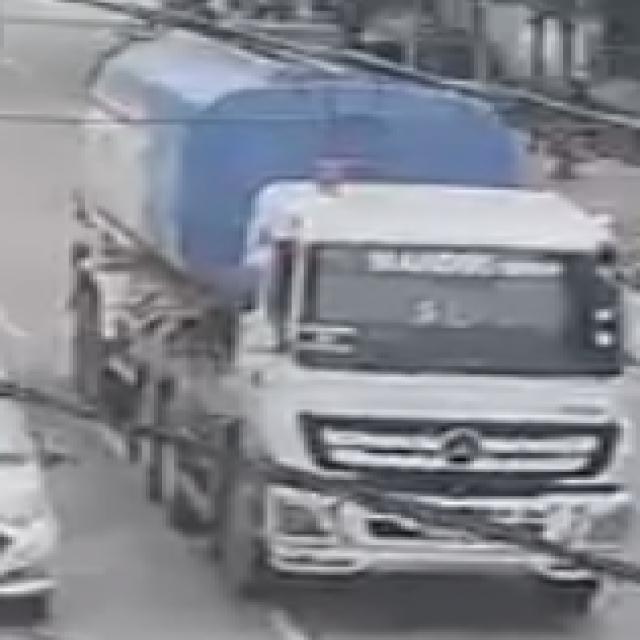truck: (88, 10, 640, 616)
